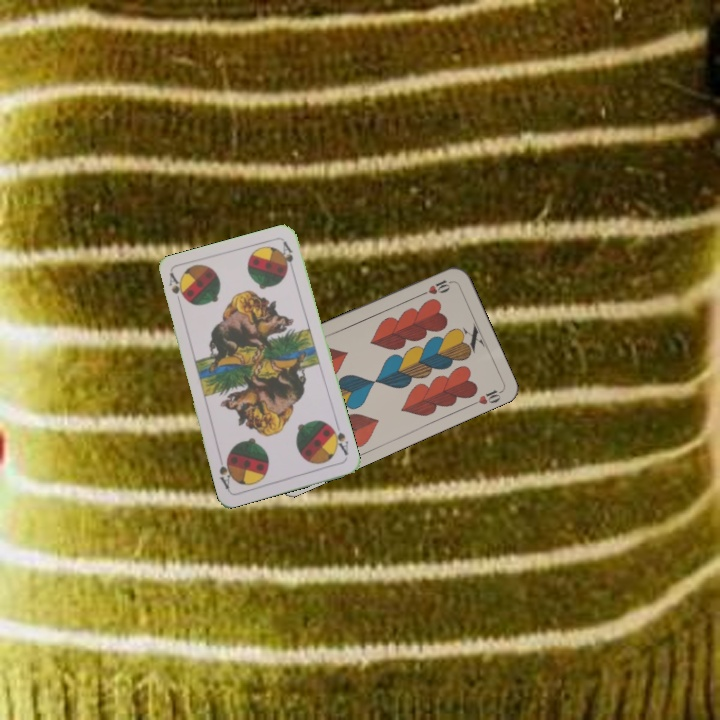H10: (416, 275, 455, 299)
SA: (326, 420, 351, 457), (165, 270, 186, 301)
